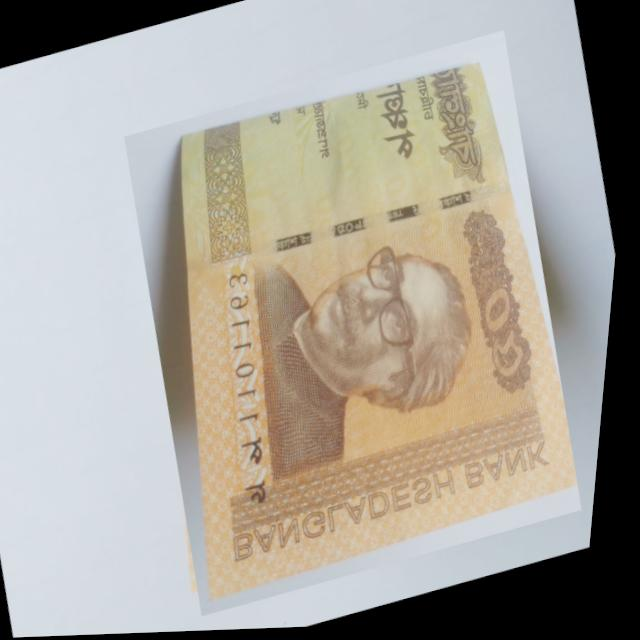Taka: (92, 30, 626, 622)
